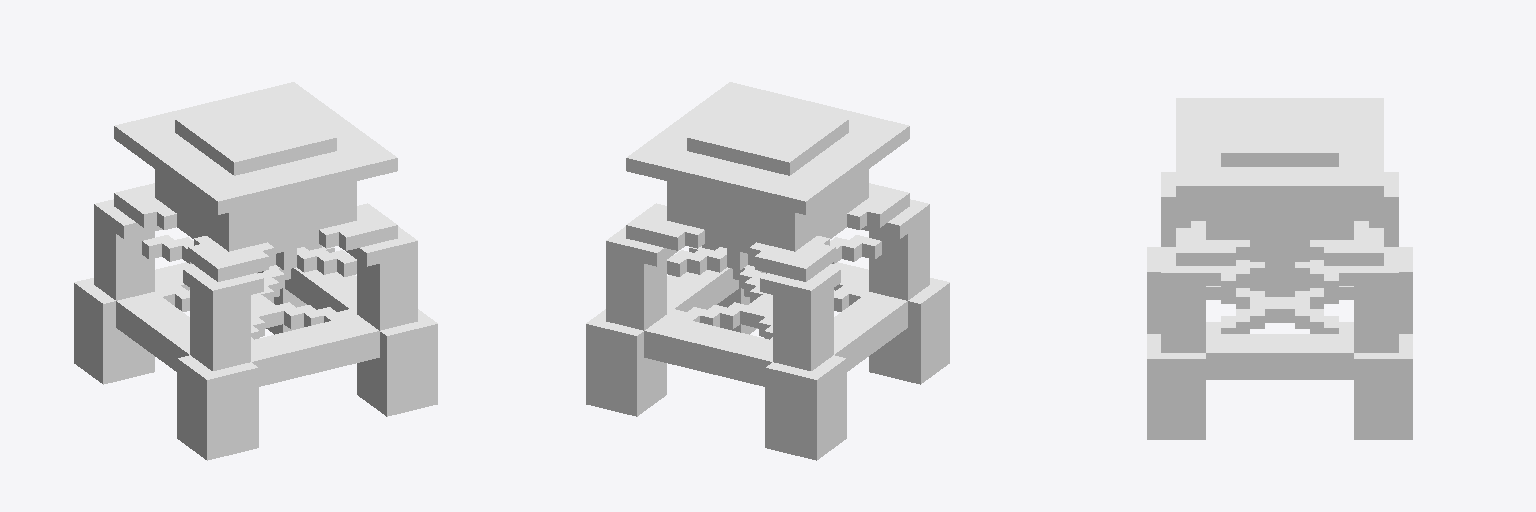
Rendered from prop-tower1.obj.
The picture shows the model from 3 angles: view 1: azimuth 30°, elevation 25°; view 2: azimuth 150°, elevation 25°; view 3: azimuth 270°, elevation 25°; orthographic projection.
Size of the model in its own units: 36 by 38 by 36.